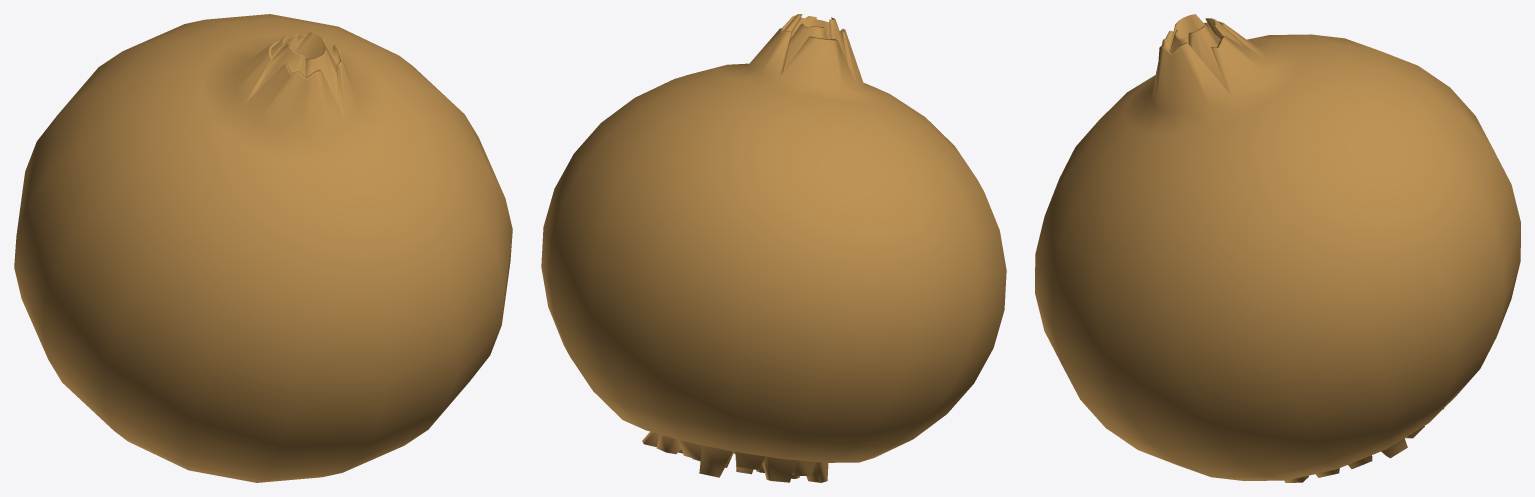
The model's file is cebola.fbx.
3 views of the same model, side by side, from view 1: azimuth 30°, elevation 25°; view 2: azimuth 150°, elevation 25°; view 3: azimuth 270°, elevation 25° (orthographic). The views are drawn at different scales.
Parts seen in each view (by area): view 1: Sphere; view 2: Sphere; view 3: Sphere.
Part boxes in pixels (bbox=[...]): Sphere: bbox=[14, 14, 512, 482]; Sphere: bbox=[541, 14, 1006, 482]; Sphere: bbox=[1035, 14, 1520, 482].
Size of the model in its own units: 274 by 271 by 270.
